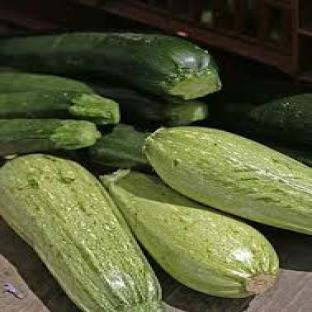Zucchini: (0, 155, 163, 311), (103, 170, 278, 297), (146, 127, 311, 233), (0, 33, 221, 99), (95, 86, 207, 126), (0, 90, 120, 125), (0, 120, 100, 155), (250, 94, 311, 144), (90, 124, 150, 169), (0, 73, 94, 93), (266, 143, 311, 167)
